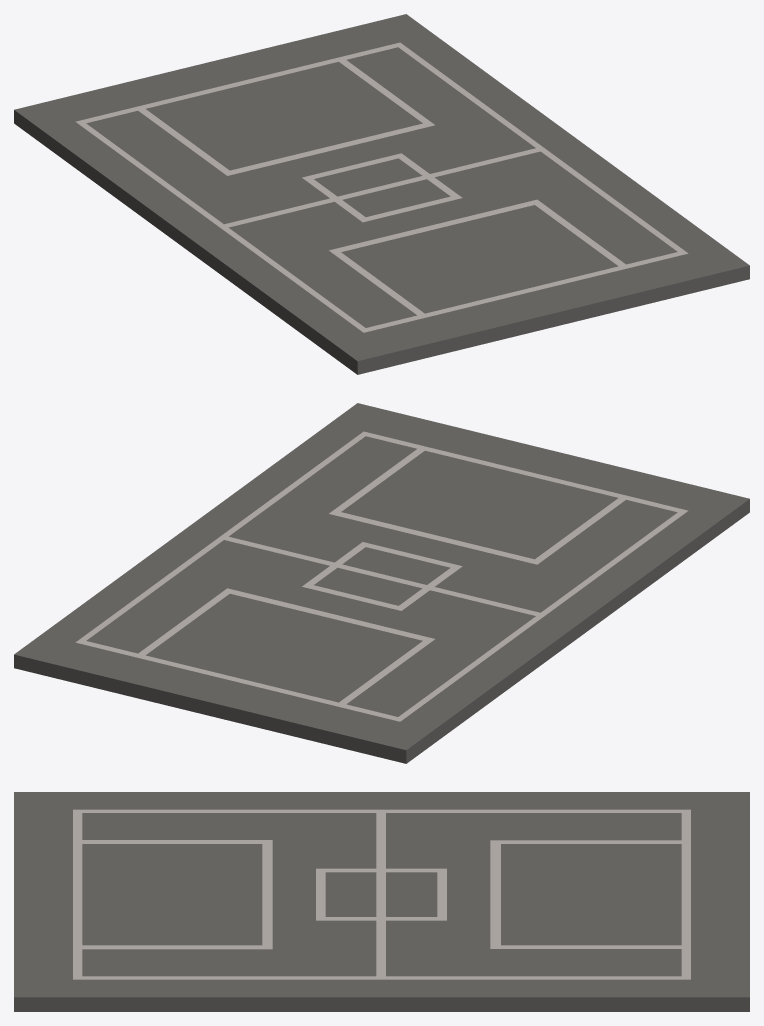
File: SA_Env_Court.fbx
3 renders of one model, top to bottom at view 1: azimuth 30°, elevation 25°; view 2: azimuth 150°, elevation 25°; view 3: azimuth 270°, elevation 25°, orthographic. The views are drawn at different scales.
Parts seen in each view (by area): view 1: SA_Env_Court; view 2: SA_Env_Court; view 3: SA_Env_Court.
Part boxes in pixels (x1=…): SA_Env_Court: x1=14, y1=14, x2=749, y2=374; SA_Env_Court: x1=14, y1=403, x2=749, y2=763; SA_Env_Court: x1=14, y1=792, x2=749, y2=1011.
Bounding box in the file's own units: 30 × 1 × 45.5.
1 material, 1 textured.
